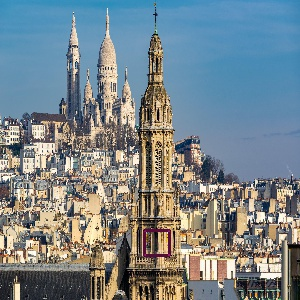square: (140, 227, 173, 259)
